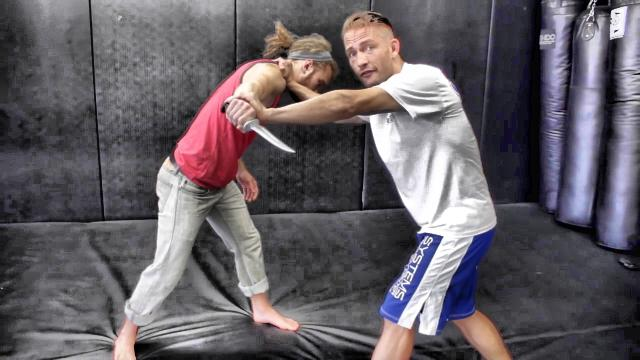knife: (215, 99, 302, 158)
